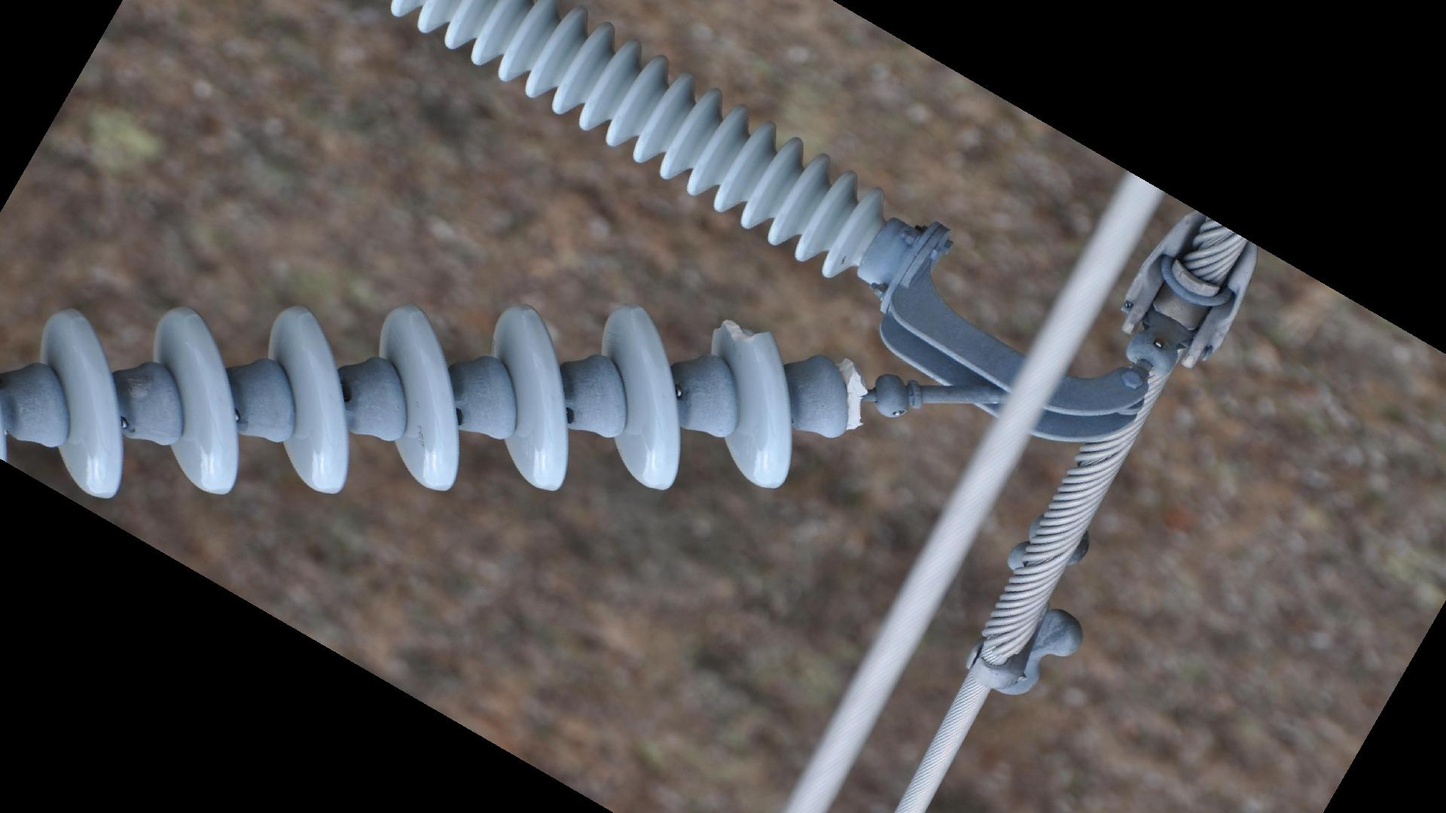insulator: (1, 293, 801, 516), (380, 1, 892, 289)
insulator_breakage: (703, 309, 776, 358)
